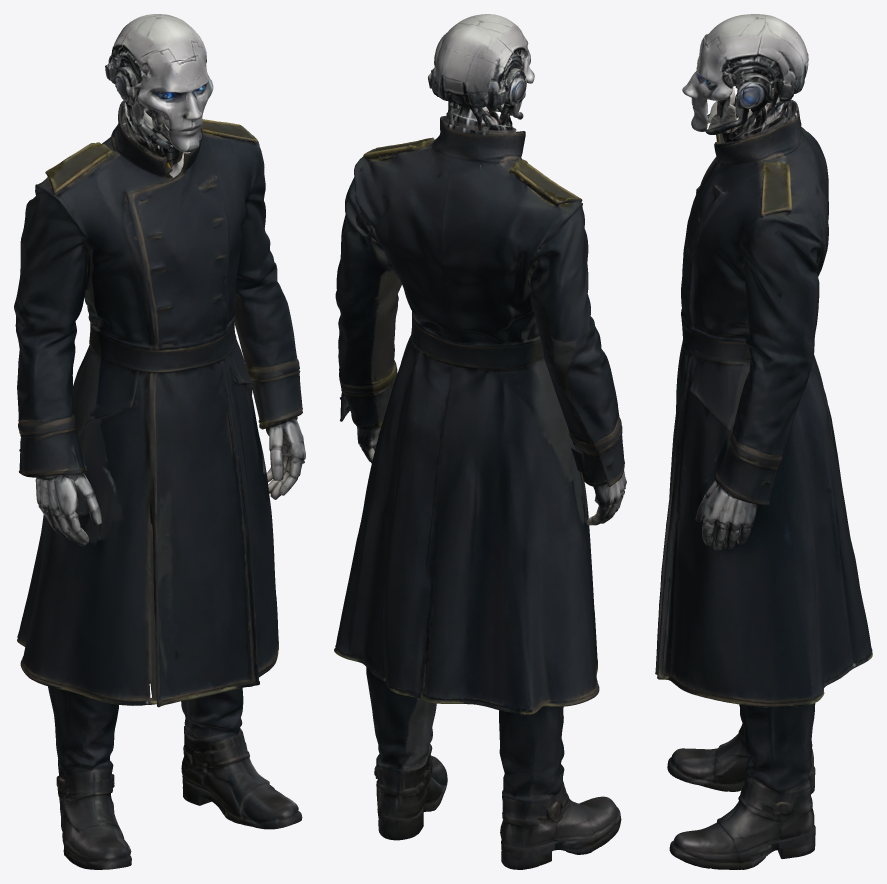
File: stratege.syntheten.glb
The picture shows the model from 3 angles, left to right: view 1: azimuth 30°, elevation 25°; view 2: azimuth 150°, elevation 25°; view 3: azimuth 270°, elevation 25°; orthographic projection.
Visible parts, largest first — view 1: figur; view 2: figur; view 3: figur.
Part boxes in pixels (x1,y1,x2,y2): figur: [14, 14, 305, 869]; figur: [334, 14, 626, 869]; figur: [655, 14, 872, 869].
Bounding box in the file's own units: 0.3496 × 0.9857 × 0.2429.
1 material, 1 textured.
